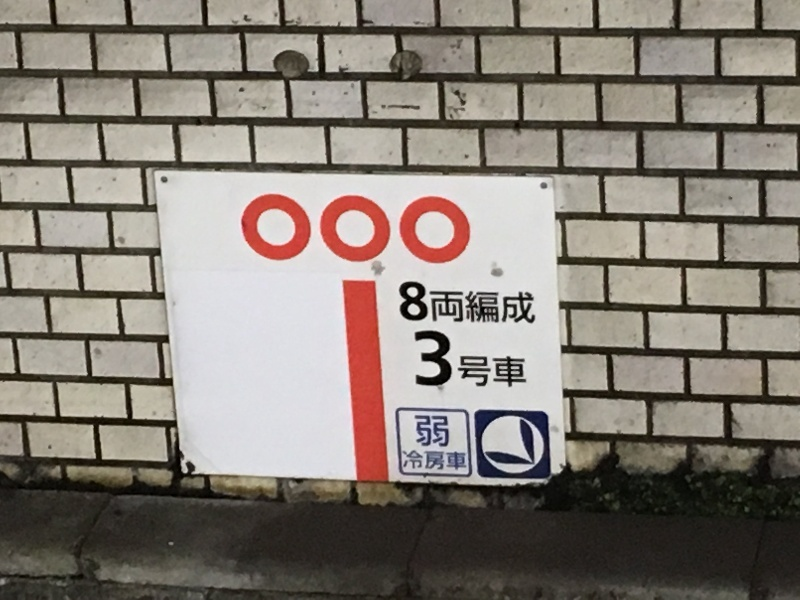text: (241, 194, 256, 268), (257, 194, 272, 268), (273, 194, 288, 268), (289, 194, 304, 268), (305, 194, 320, 268), (321, 194, 336, 268), (337, 194, 352, 268), (353, 194, 368, 268), (369, 194, 384, 268), (385, 194, 400, 268), (401, 194, 416, 268), (417, 194, 432, 268), (433, 194, 448, 268), (449, 194, 464, 268), (465, 194, 479, 268), (417, 331, 432, 390), (433, 331, 448, 390), (401, 280, 416, 325), (417, 280, 432, 325), (513, 353, 529, 392), (433, 286, 448, 327), (449, 286, 464, 327), (465, 286, 480, 327), (481, 286, 496, 327), (497, 286, 512, 327), (513, 286, 528, 327), (449, 331, 459, 390), (465, 353, 480, 392), (481, 353, 496, 392), (497, 353, 512, 392), (417, 410, 432, 449), (433, 410, 448, 449), (529, 286, 542, 327), (401, 443, 416, 476), (417, 443, 432, 476), (433, 443, 448, 476), (449, 443, 464, 476), (410, 410, 416, 449), (459, 353, 464, 392), (396, 280, 400, 325), (413, 331, 416, 390), (465, 443, 470, 476), (238, 194, 240, 268), (449, 410, 452, 449), (431, 286, 432, 327), (399, 443, 400, 476)
